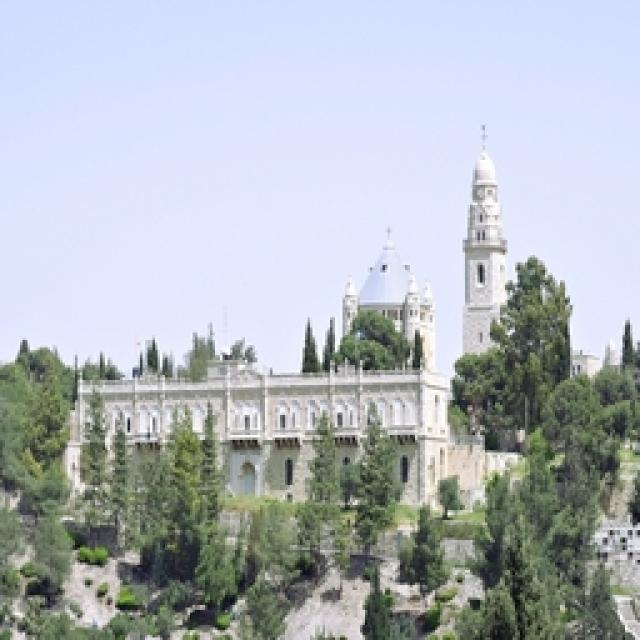Abbey: (64, 118, 579, 516)
